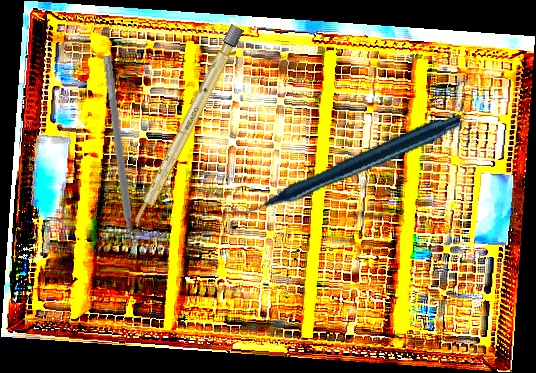Handpiece: (232, 69, 462, 258)
Scalpel Handle: (129, 24, 245, 230)
Spatula Surgical: (93, 55, 140, 259)
